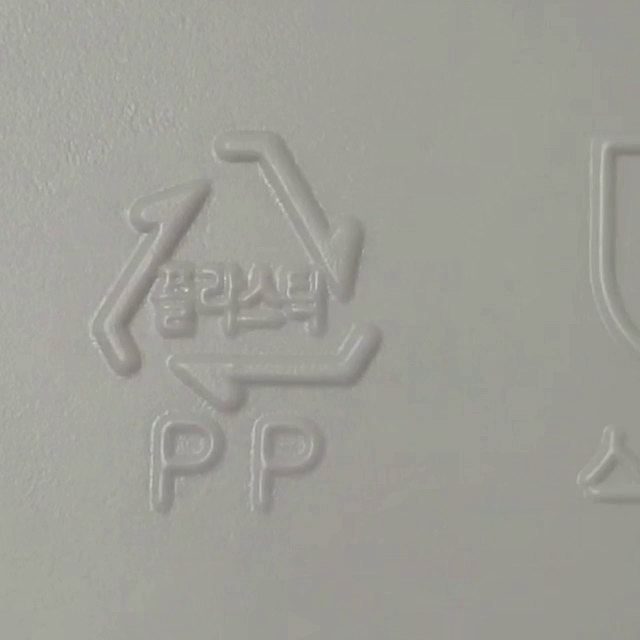Plastic: (95, 131, 380, 409)
